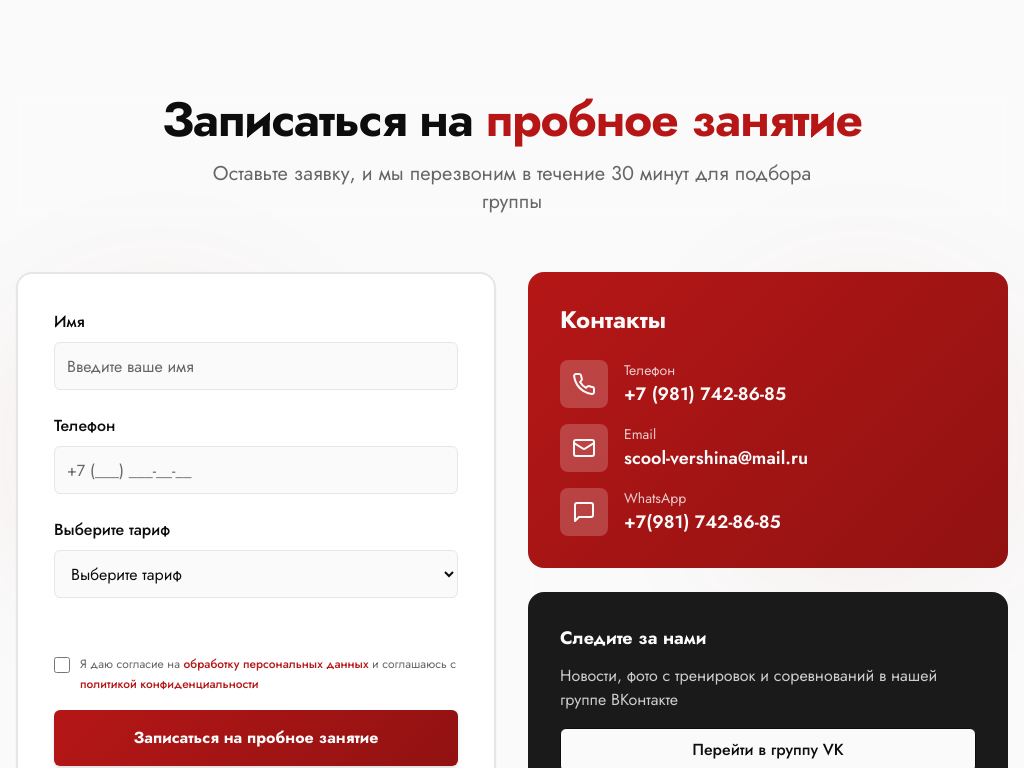
ContactForm - 152-ФЗ Compliance and Submission › successfully submits the form when all fields including consent checkbox are filled
// Заполняем поля
Type "Алексей Смирнов" into the field labelled "Имя". click: (256, 366)
box: [54,342,458,390]
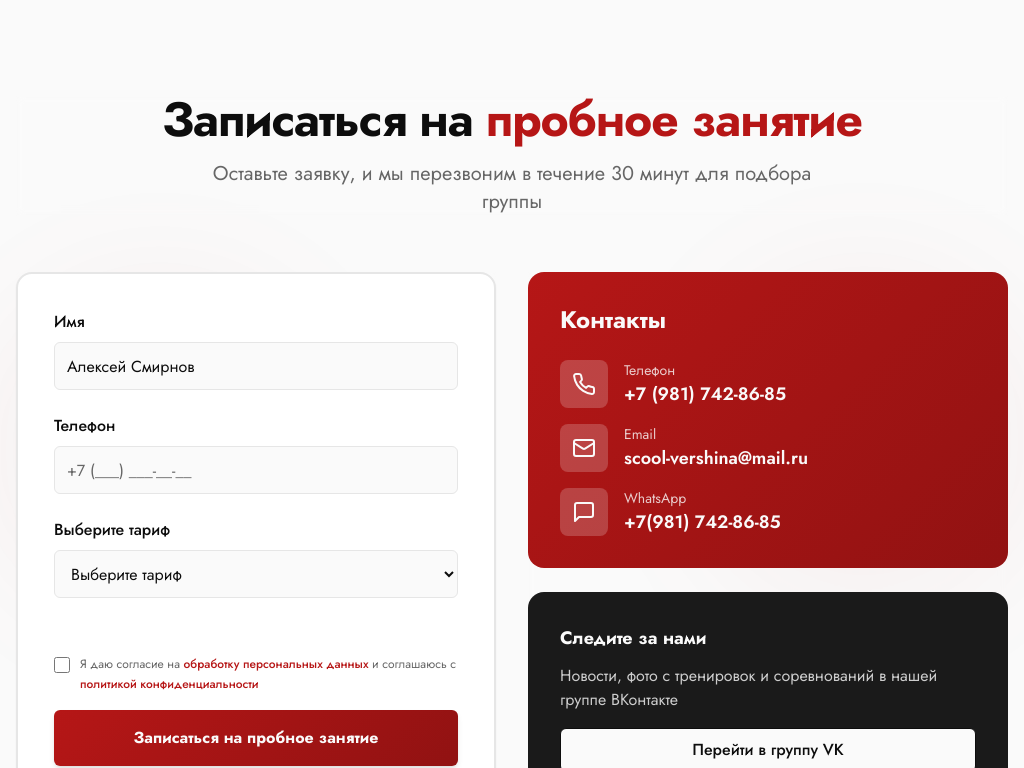
Type "+7 (981) 742-86-85" into the field labelled "Телефон". click: (256, 470)
box: [54,446,458,494]
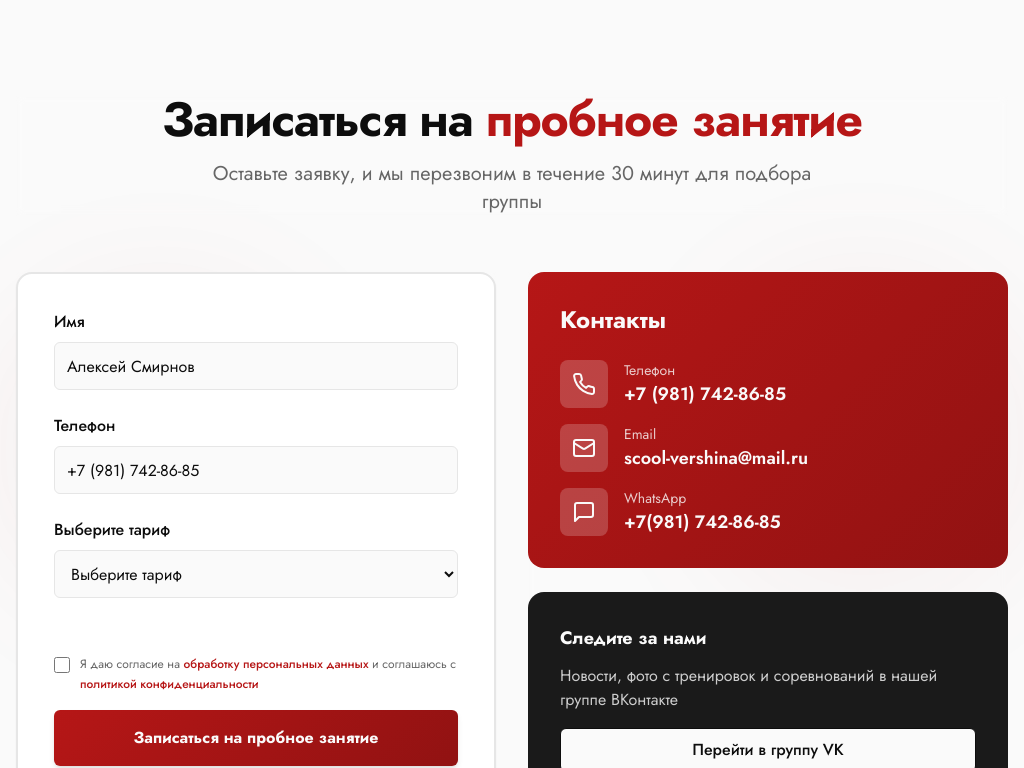
Select "Active - 6000 р/мес." in the dropdown labelled "Выберите тариф". click: (256, 574)
box: [54,550,458,598]
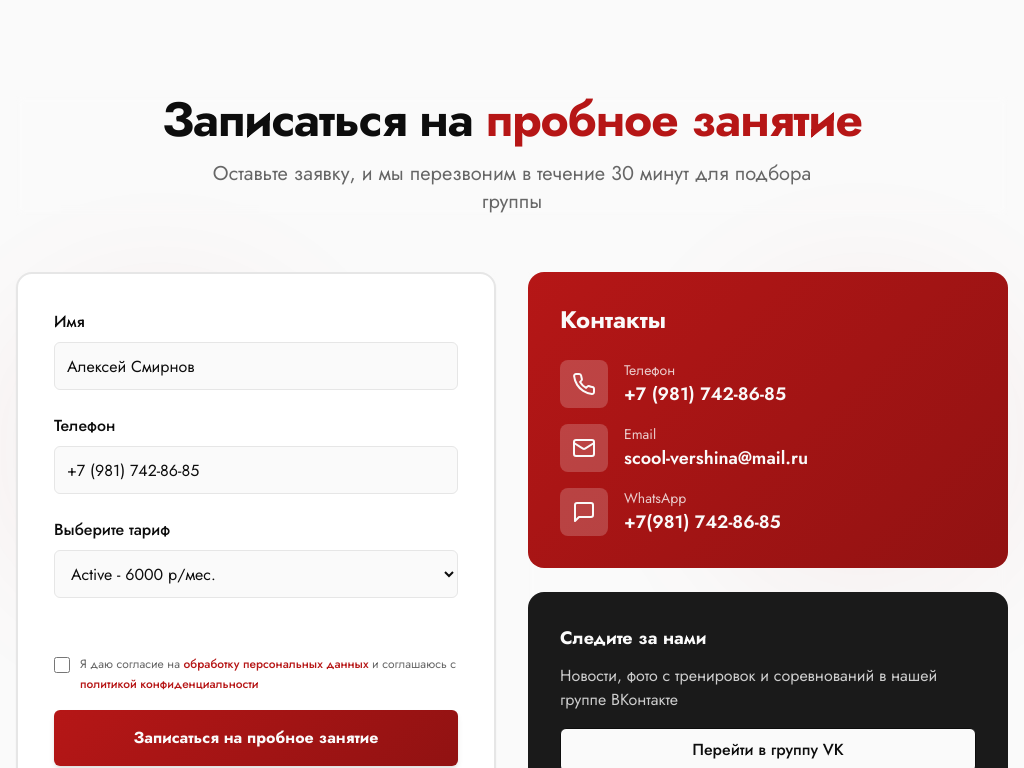
// Отмечаем чекбокс согласия
Click the checkbox. click: (62, 665)
box: [54,657,70,673]
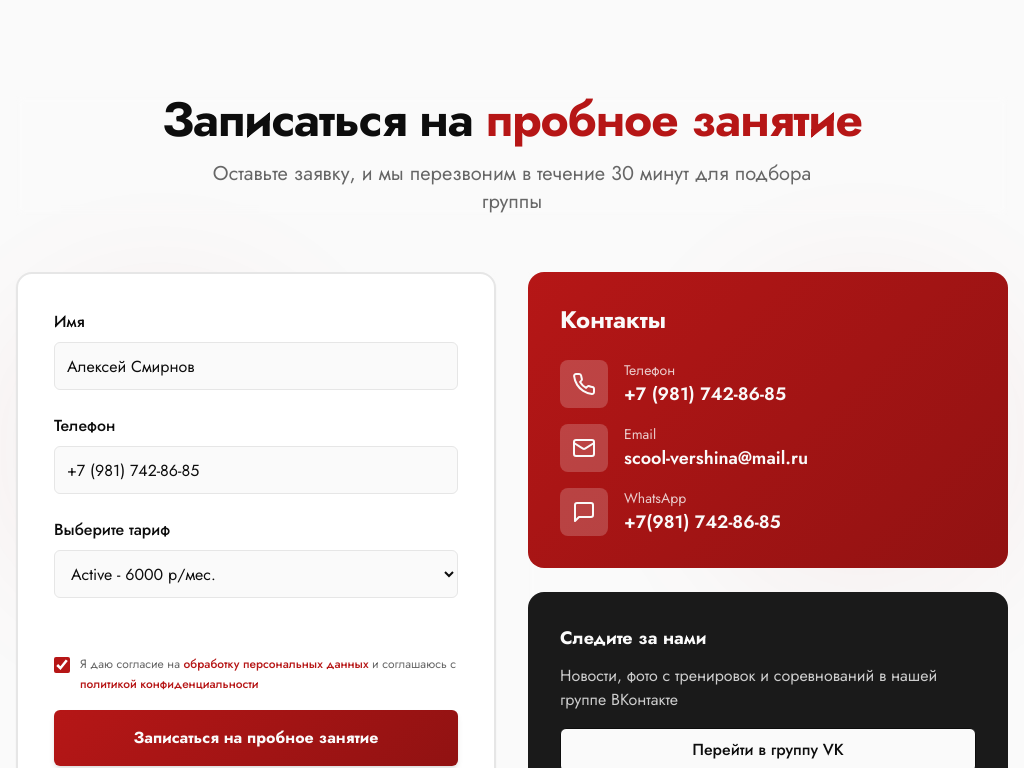
Expected: the checkbox is checked, [54,657,70,673]
// Отправляем форму
Click the button "Записаться на пробное занятие". click: (256, 738)
box: [54,710,458,766]
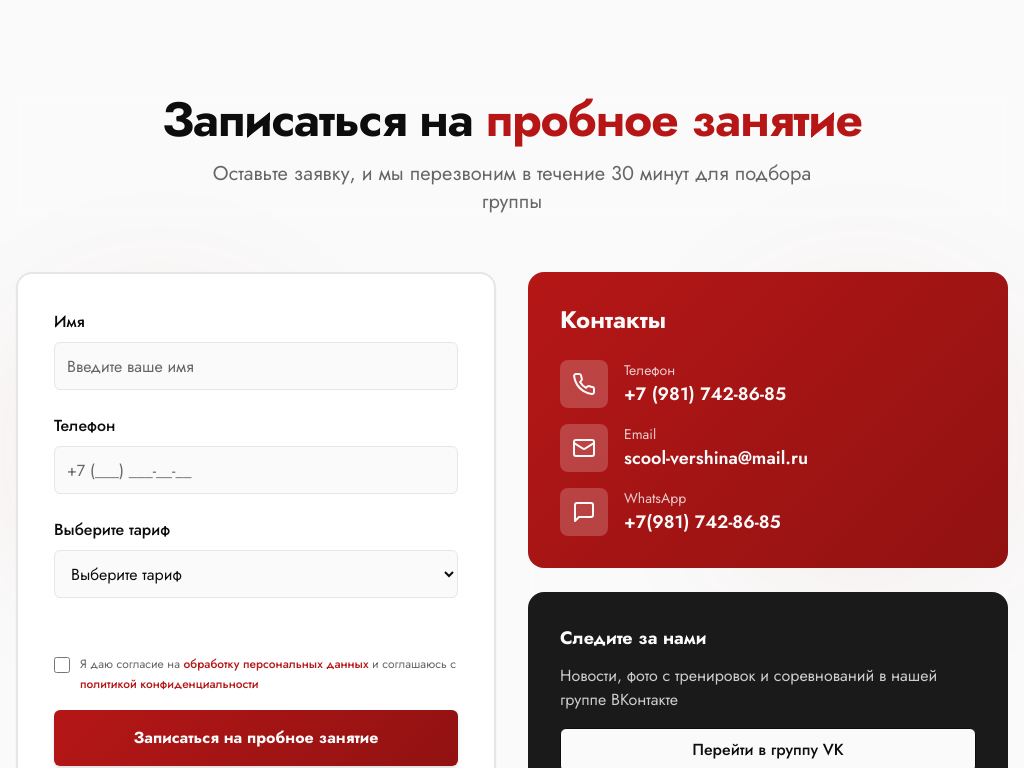
Expected: the checkbox is not checked, [54,657,70,673]
Expected: the field labelled "Имя" is empty, [54,342,458,390]
Expected: the field labelled "Телефон" is empty, [54,446,458,494]
